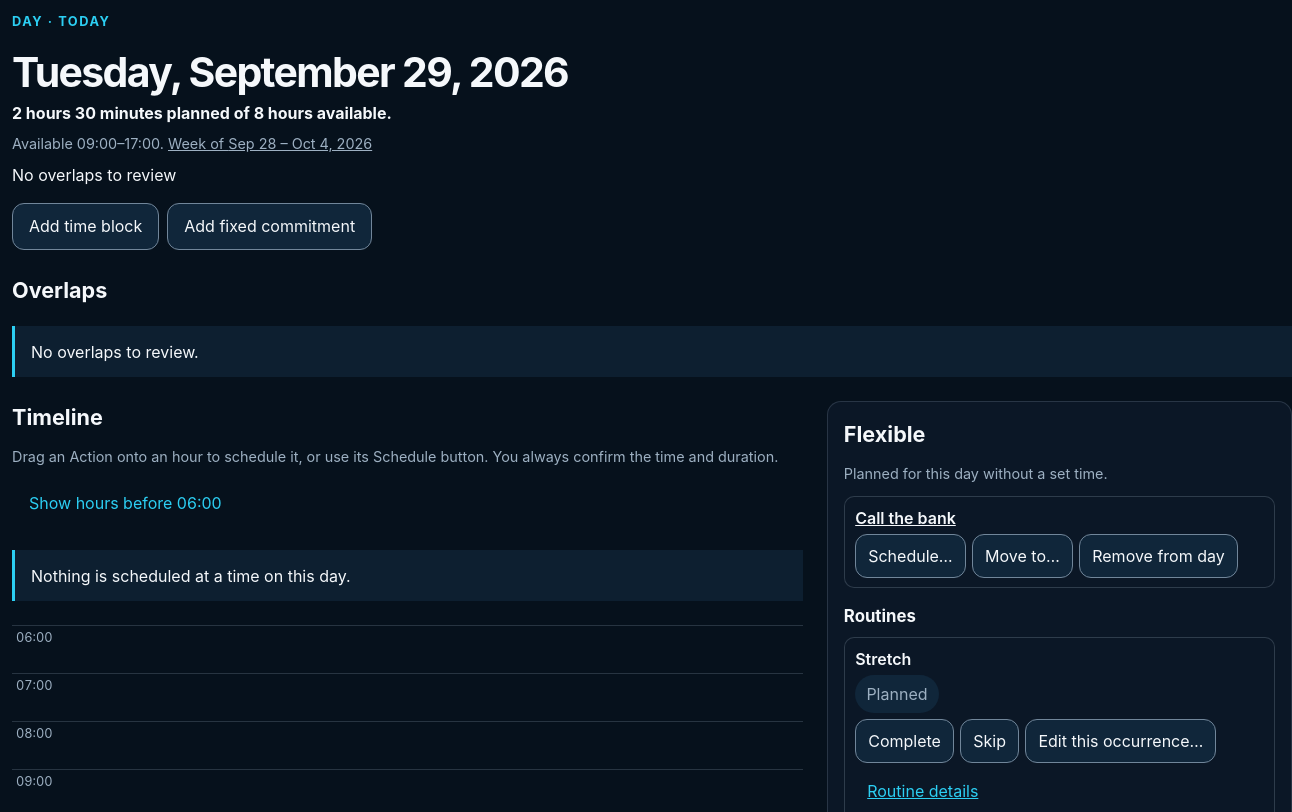
Test: Day view › shows an empty timeline and reveals earlier hours on request
Expected: the text "Nothing is scheduled at a time on this day." is shown, [12, 550, 803, 601]
Expected: the text "03:00" is not shown
Click the button "Show hours before 06:00": [125, 503] box [12, 479, 239, 526]
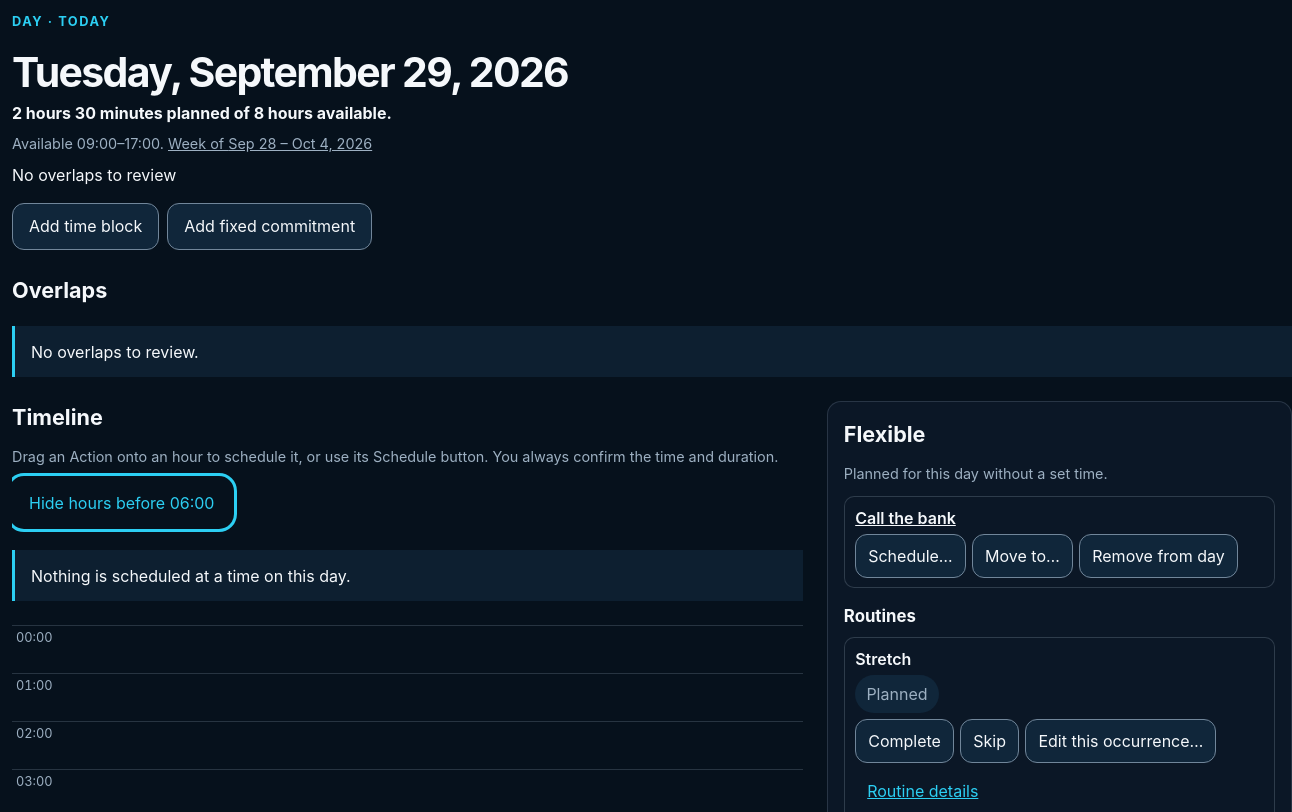
Now the text "03:00" is shown, box [16, 774, 53, 789]
